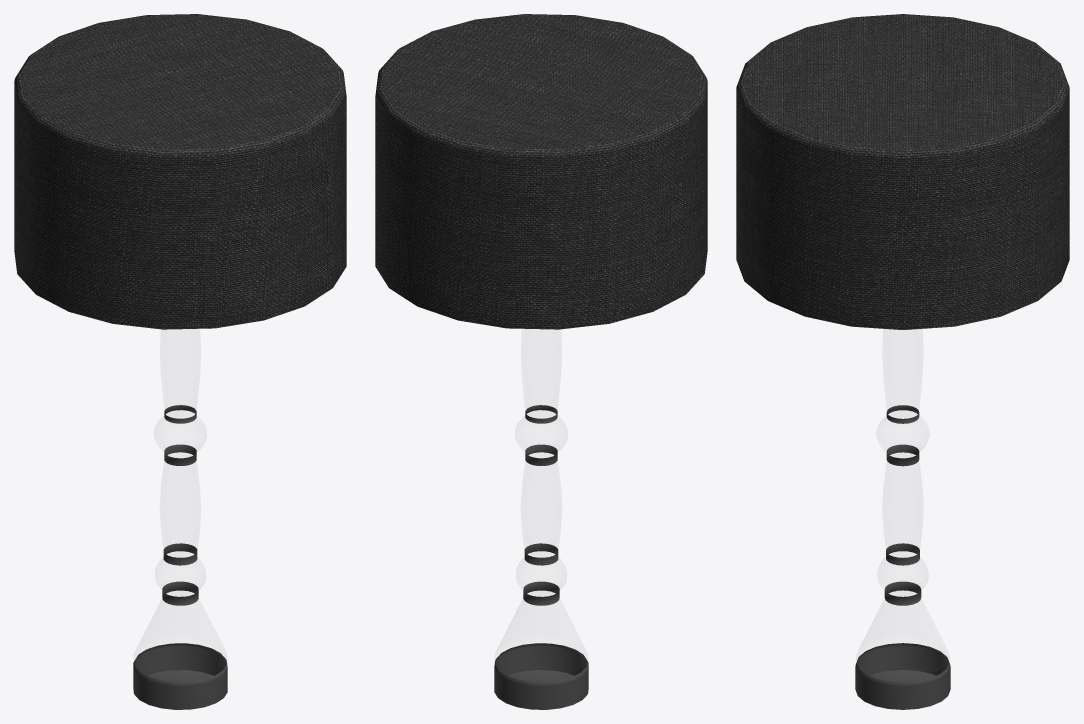
File: ceoStand.fbx
3 views of the same model, side by side, from view 1: azimuth 30°, elevation 25°; view 2: azimuth 150°, elevation 25°; view 3: azimuth 270°, elevation 25° (orthographic).
Parts seen in each view (by area): view 1: ceoStand; view 2: ceoStand; view 3: ceoStand.
Part boxes in pixels (box(x1,y1,x2,y2)): ceoStand: box(14, 14, 346, 709); ceoStand: box(375, 14, 707, 709); ceoStand: box(736, 14, 1069, 709).
Bounding box in the file's own units: 0.0109 × 0.022 × 0.0109.
Materials: 3 (1 with a texture image).
